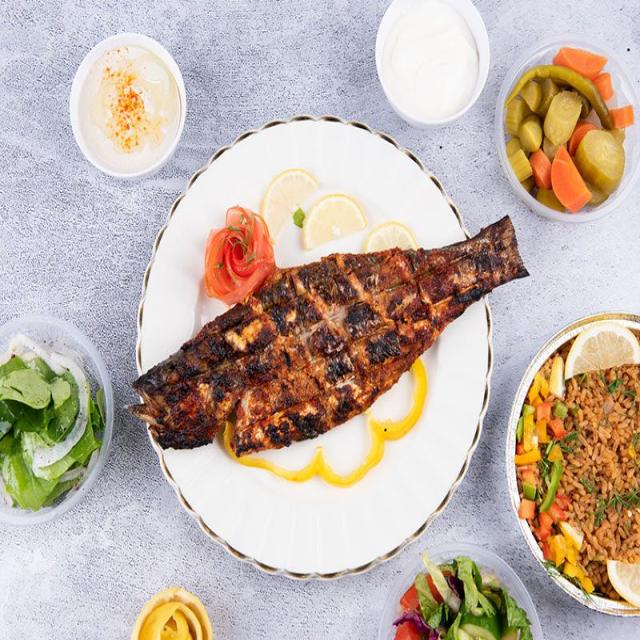Peixe: (127, 212, 530, 459)
